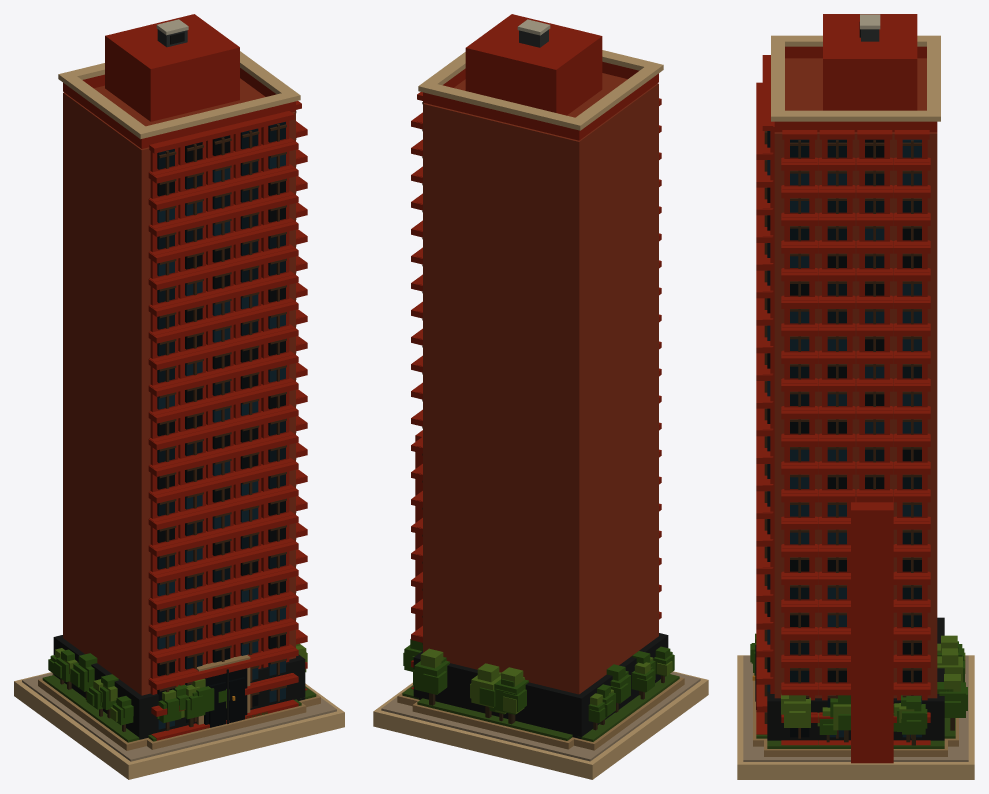
File: SM_Mapa_007.fbx
3 views of the same model, side by side, from view 1: azimuth 30°, elevation 25°; view 2: azimuth 150°, elevation 25°; view 3: azimuth 270°, elevation 25° (orthographic). The views are drawn at different scales.
Parts seen in each view (by area): view 1: SM_Mapa_007; view 2: SM_Mapa_007; view 3: SM_Mapa_007.
Part boxes in pixels (x1,y1,x2,y2): SM_Mapa_007: [14, 14, 344, 779]; SM_Mapa_007: [373, 14, 708, 779]; SM_Mapa_007: [737, 14, 974, 779].
Size of the model in its own units: 14 by 12.85 by 42.13.
